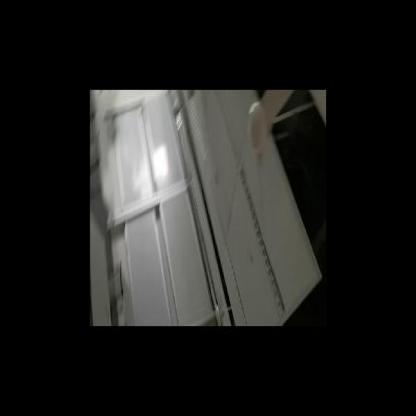light_off: (235, 156, 289, 315)
